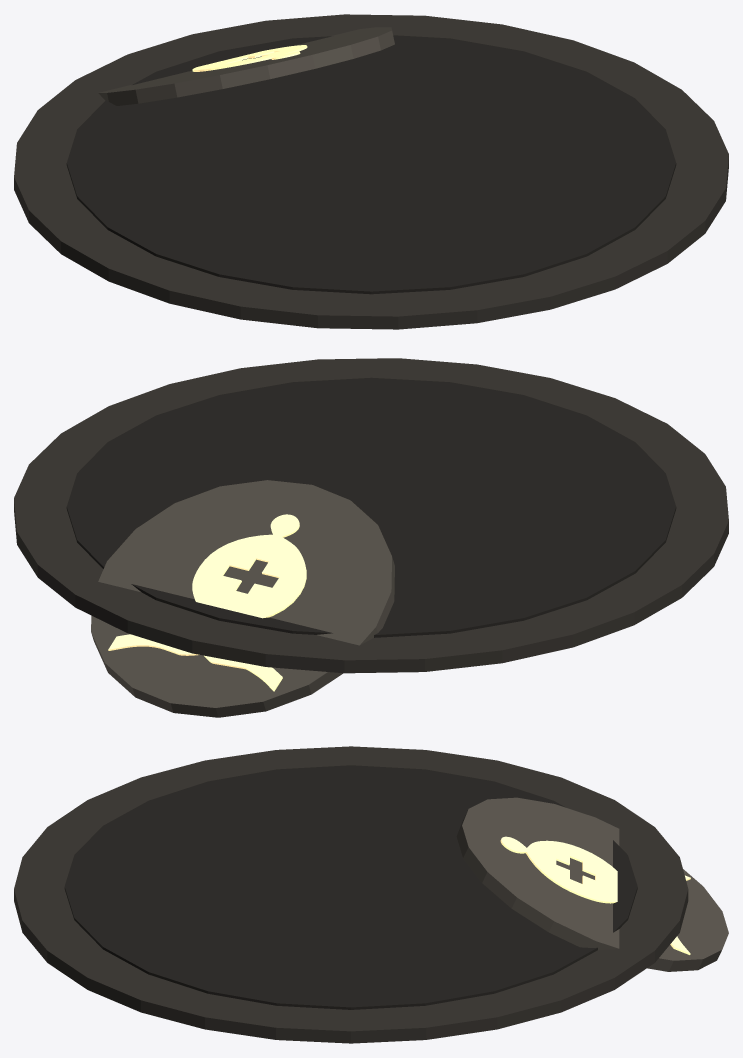
Rendered from glyph_ring_bishop.glb.
3 renders of one model, top to bottom at view 1: azimuth 30°, elevation 25°; view 2: azimuth 150°, elevation 25°; view 3: azimuth 270°, elevation 25°, orthographic. The views are drawn at different scales.
Visible parts, largest first — view 1: GlyphRing_bishop; view 2: GlyphRing_bishop; view 3: GlyphRing_bishop.
Part boxes in pixels (left/top/right/bottom): GlyphRing_bishop: left=14, top=14, right=728, bottom=329; GlyphRing_bishop: left=14, top=358, right=728, bottom=717; GlyphRing_bishop: left=14, top=746, right=728, bottom=1043.
Size of the model in its own units: 0.6 by 0.1167 by 0.6362.
